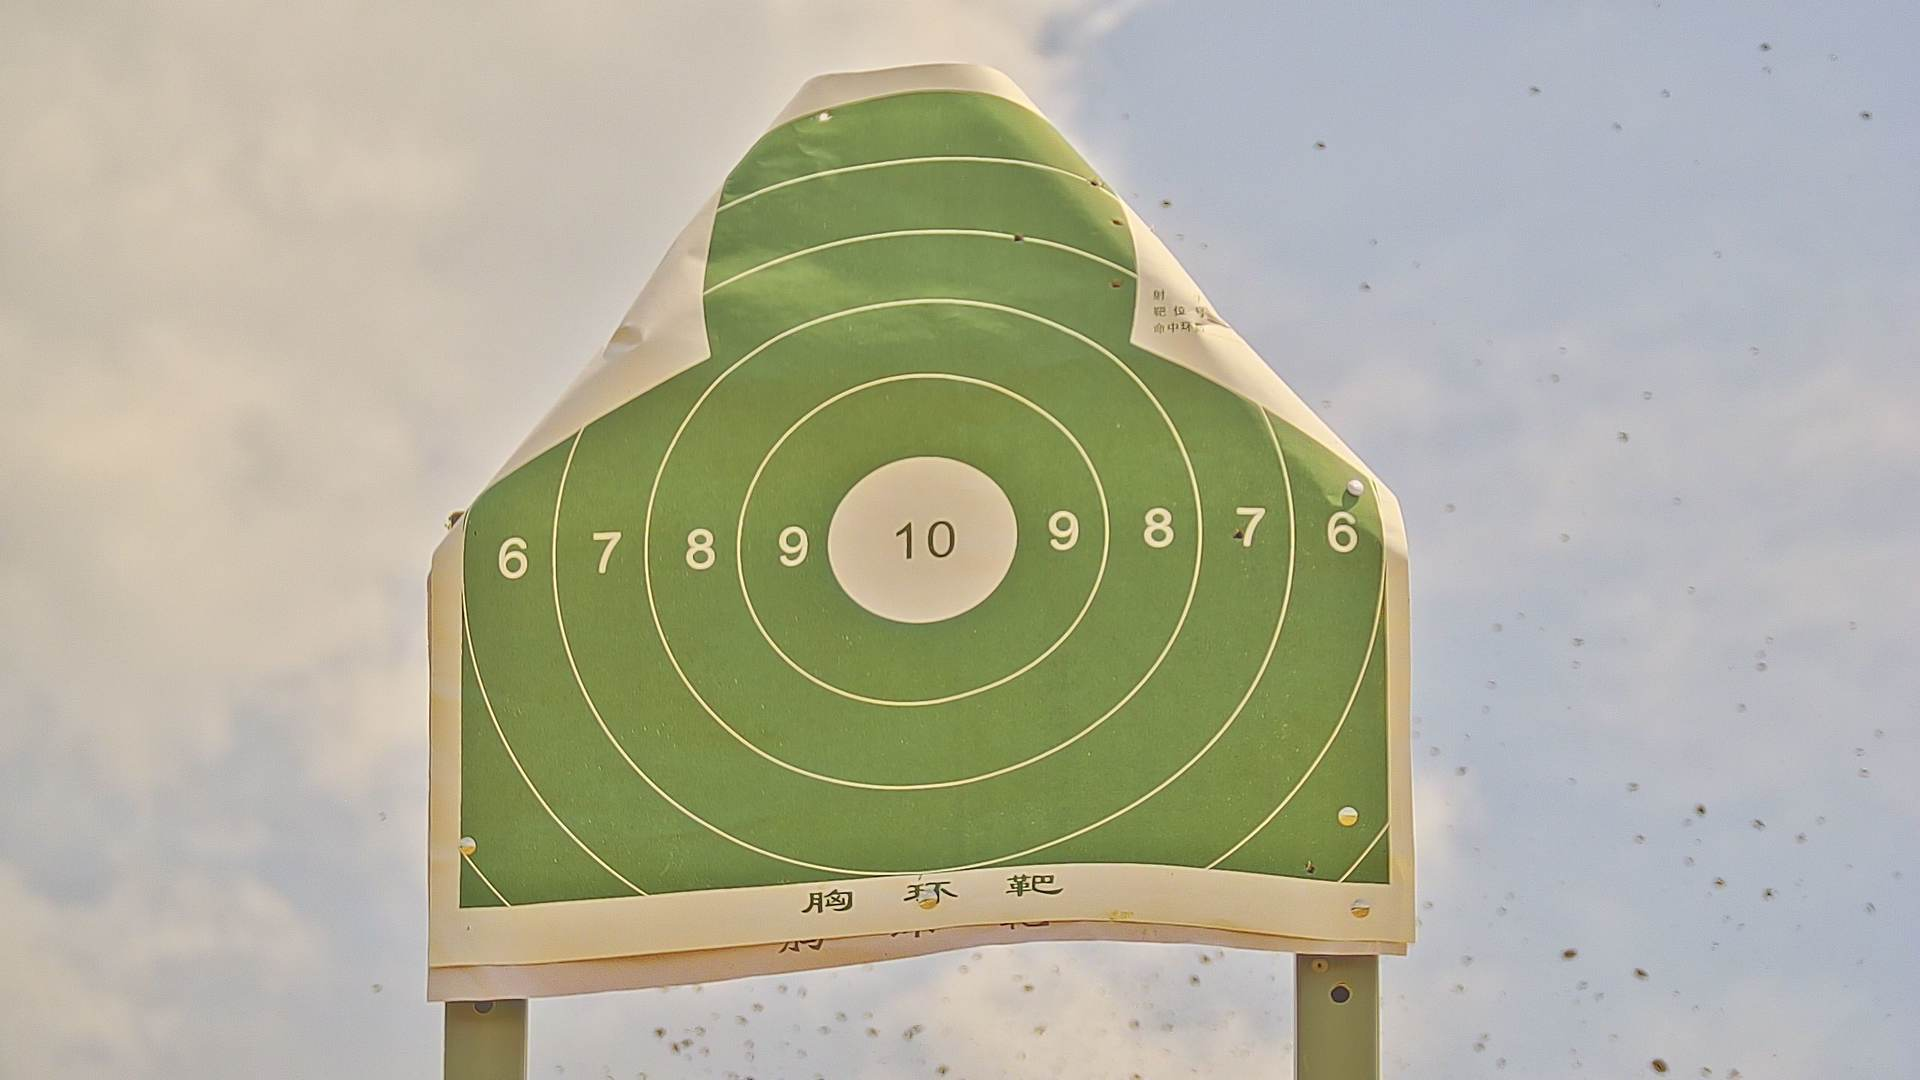hole: (1299, 853, 1320, 880), (1228, 522, 1249, 542), (1106, 273, 1124, 295), (1007, 228, 1025, 247), (1109, 208, 1124, 229), (1087, 171, 1098, 190), (818, 109, 833, 123)
kernel: (916, 541, 923, 545)
target: (463, 94, 1390, 905)
ten: (824, 448, 1019, 626)
